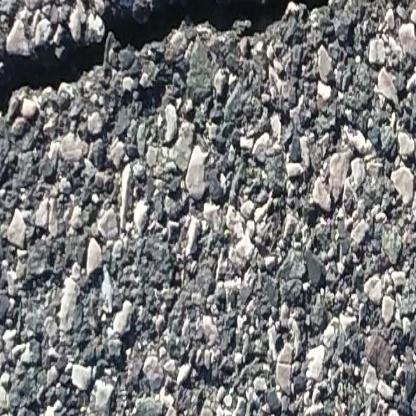Cracks: (0, 0, 382, 125)
